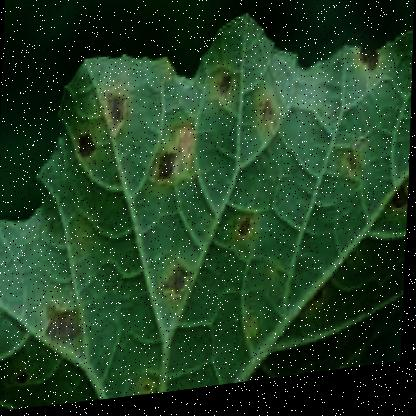Anthracnose: (145, 193, 266, 337), (52, 71, 133, 196), (129, 107, 203, 213), (20, 287, 95, 377), (316, 151, 368, 221)
